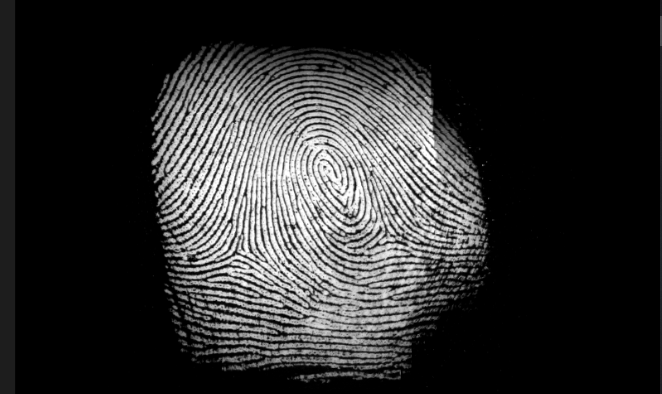nucelo: (310, 149, 347, 189)
verticilo: (368, 221, 410, 253), (223, 235, 251, 266)
